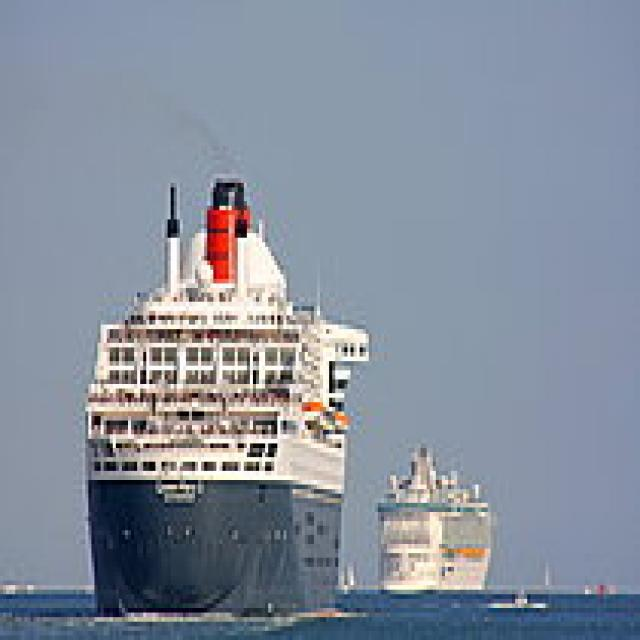Ship: (74, 152, 367, 614), (367, 426, 507, 614)
